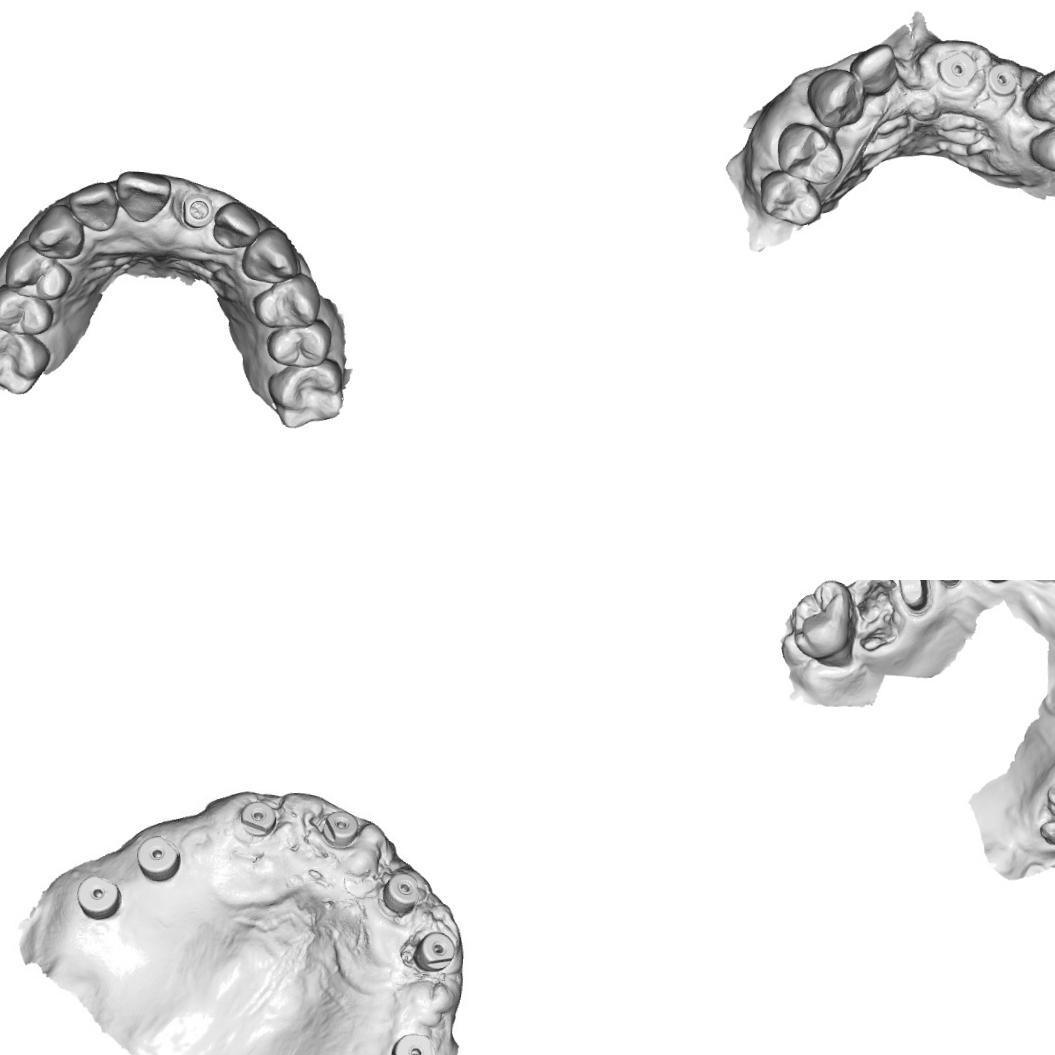canine: (801, 63, 868, 130), (24, 202, 86, 260), (240, 226, 297, 286), (1019, 62, 1055, 126)
crown: (894, 580, 933, 617)
implant: (74, 872, 122, 921), (134, 832, 182, 881), (934, 42, 980, 90), (378, 868, 424, 916), (410, 928, 456, 976), (175, 190, 218, 233), (236, 796, 279, 838), (316, 808, 359, 849), (982, 57, 1022, 100), (389, 1030, 439, 1055)
implant_minus: (929, 580, 965, 587)
incisor: (844, 40, 902, 100), (64, 179, 122, 234), (116, 170, 168, 224), (209, 200, 262, 250)
molar: (785, 580, 860, 669), (262, 359, 344, 432), (0, 322, 50, 395)
premolar: (774, 118, 844, 188), (250, 271, 322, 331), (755, 166, 824, 228), (3, 240, 73, 300), (263, 315, 334, 374), (0, 282, 57, 338), (1024, 113, 1055, 175)
